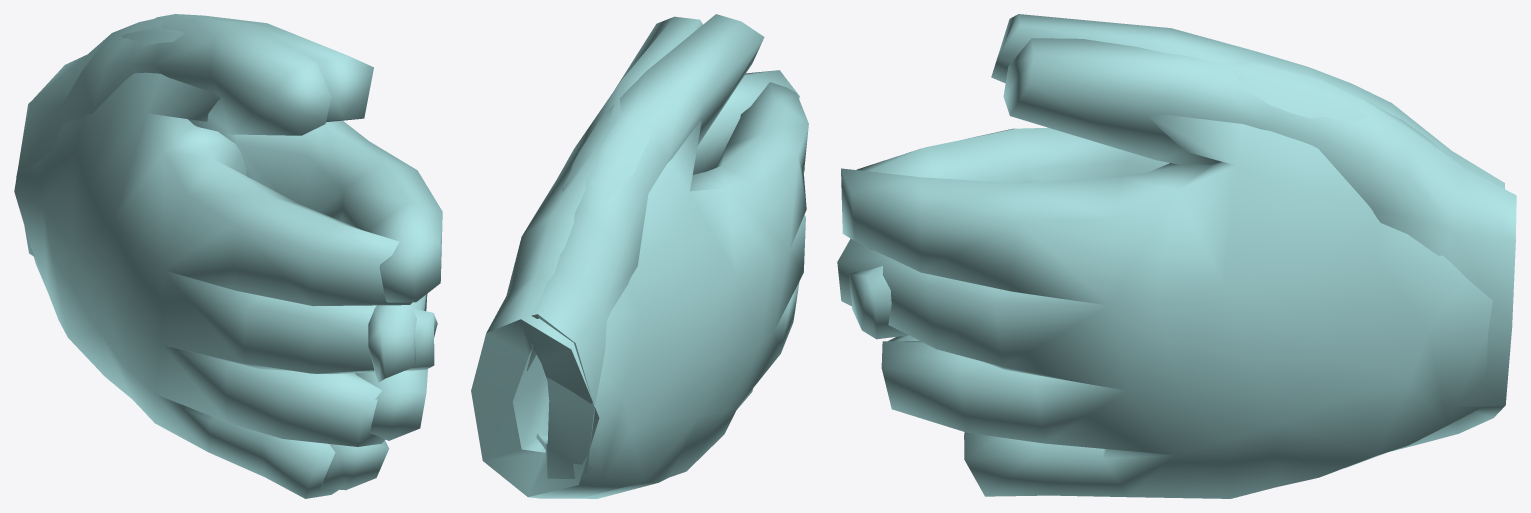
Rendered from Guantes.fbx.
3 views of the same model, side by side, from view 1: azimuth 30°, elevation 25°; view 2: azimuth 150°, elevation 25°; view 3: azimuth 270°, elevation 25° (orthographic). The views are drawn at different scales.
Parts seen in each view (by area): view 1: GLOVES, GLOVES.001; view 2: GLOVES, GLOVES.001; view 3: GLOVES.001, GLOVES.
Boxes of the visible parts, box(x1,y1,x2,y2) form: GLOVES: box(14, 14, 437, 498); GLOVES.001: box(16, 16, 442, 490); GLOVES: box(471, 16, 808, 498); GLOVES.001: box(510, 14, 804, 478); GLOVES.001: box(837, 14, 1504, 498); GLOVES: box(849, 38, 1516, 468).
Size of the model in its own units: 12.02 by 20.59 by 27.19.
